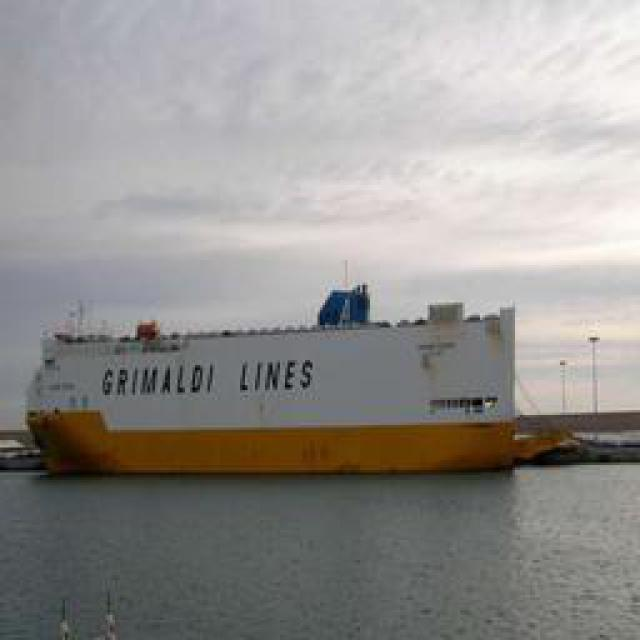Ship: (25, 299, 543, 484)
